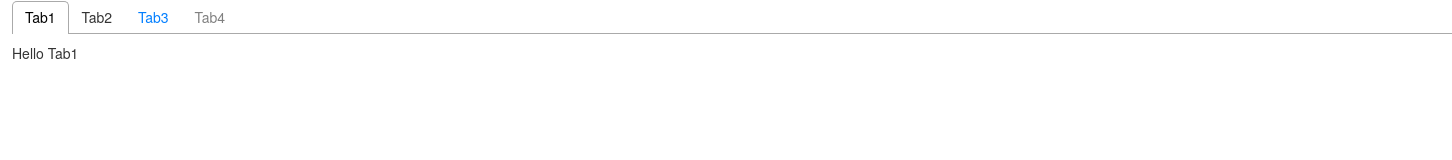
<Tabs /> › interaction › mouse › should update selectedIndex when clicked
Click the tab with test id "tab2" at [97, 17], box 82,7 -> 112,27
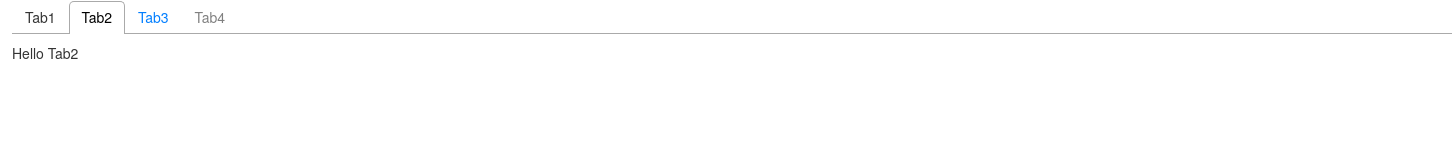
Now the panel with test id "panel2" reads "Hello Tab2", box 12,43 -> 78,63
